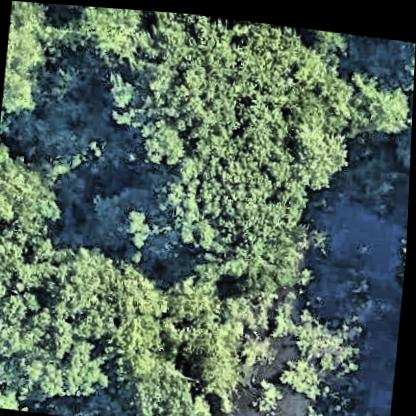tree-top: (137, 8, 317, 142), (169, 120, 305, 252), (24, 243, 128, 400), (111, 266, 179, 374), (0, 140, 69, 240), (177, 308, 252, 393), (0, 230, 48, 361), (1, 0, 50, 119), (344, 67, 413, 142), (242, 227, 313, 296), (65, 4, 142, 64), (291, 115, 351, 190), (128, 367, 198, 416), (133, 114, 188, 175), (113, 203, 165, 251)
